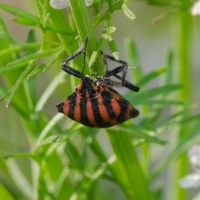insect: (56, 38, 138, 127)
